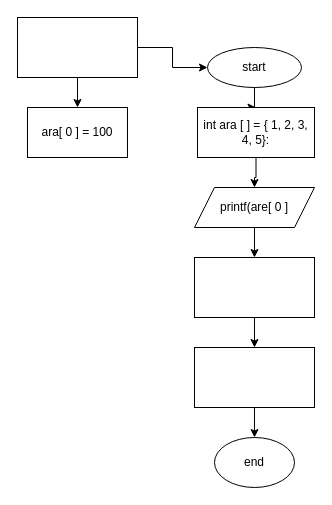
Some shapes in this 332 by 505 pixel diagram are drawn without their labels. Here are the shapes that lost their labels. From the top down, the centre of each, then its label:
At point (77, 47): "void test_function(int ara[ ]".
At point (254, 287): "test_function(ara);".
At point (254, 377): "printfara[0]".
